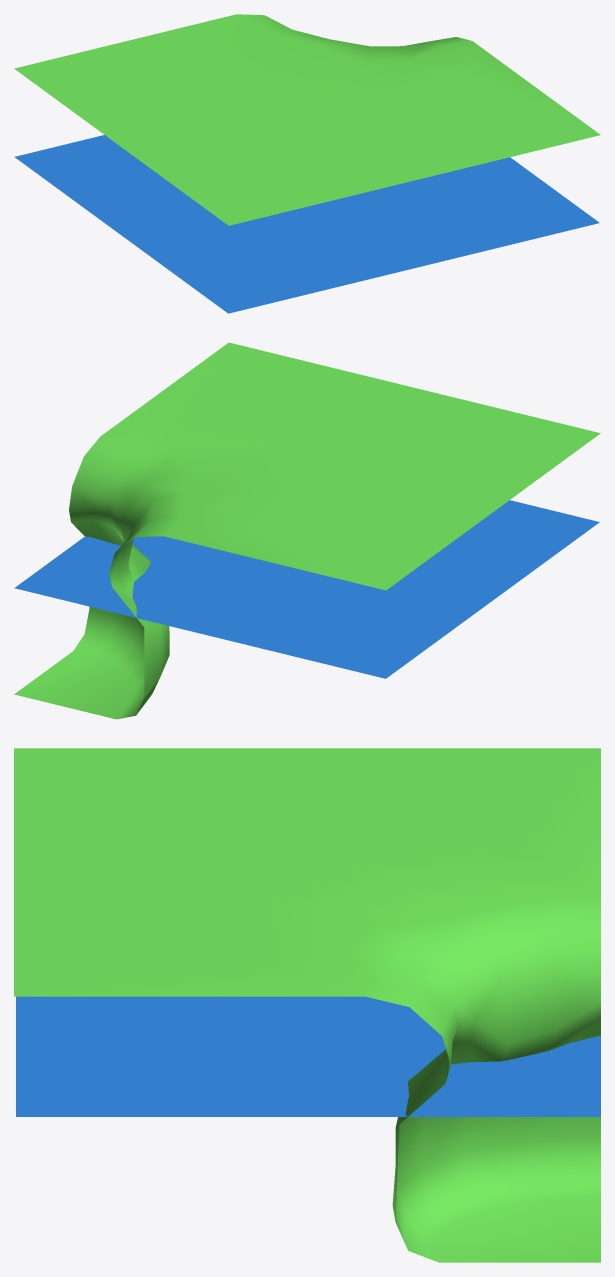
The model's file is River_Corner_A_Mesh.fbx.
3 views of the same model, one above another, from view 1: azimuth 30°, elevation 25°; view 2: azimuth 150°, elevation 25°; view 3: azimuth 270°, elevation 25° (orthographic). The views are drawn at different scales.
Parts seen in each view (by area): view 1: River_Corner_A; view 2: River_Corner_A; view 3: River_Corner_A.
Boxes of the visible parts, box(x1,y1,x2,y2) form: River_Corner_A: box(14, 14, 600, 313); River_Corner_A: box(14, 342, 600, 719); River_Corner_A: box(14, 748, 600, 1262).
Bounding box in the file's own units: 200 × 200 × 100.
